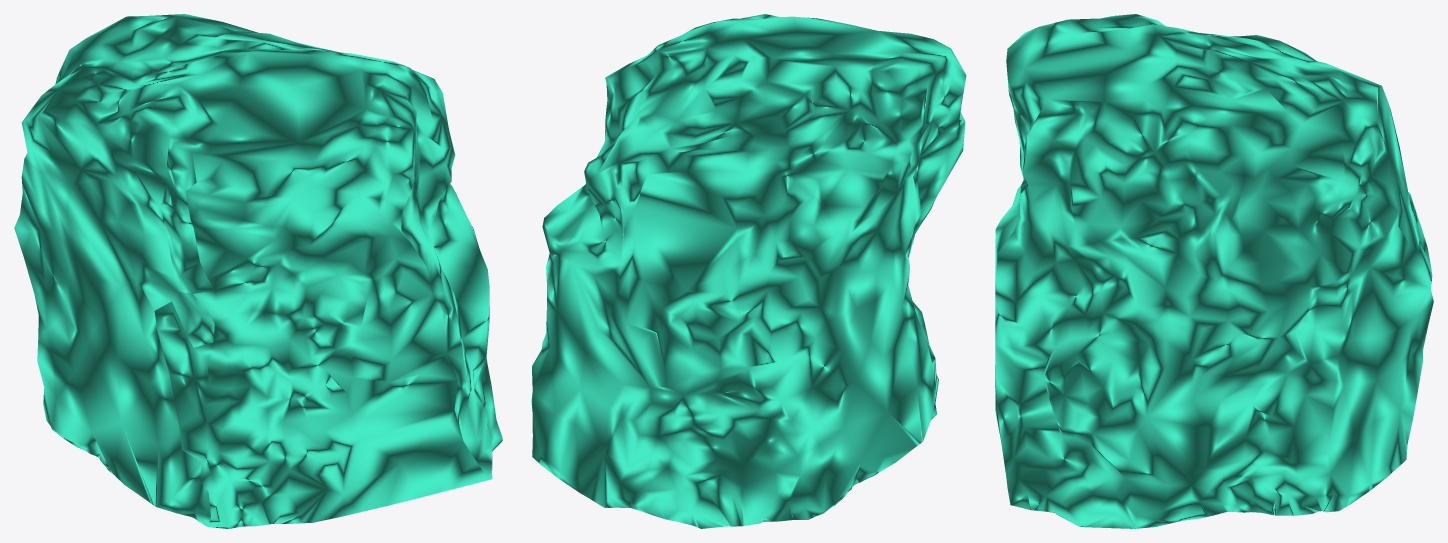
File: ice_cube_01.glb
3 renders of one model, left to right at view 1: azimuth 30°, elevation 25°; view 2: azimuth 150°, elevation 25°; view 3: azimuth 270°, elevation 25°, orthographic. The views are drawn at different scales.
Size of the model in its own units: 6.32 by 6.43 by 6.84.
